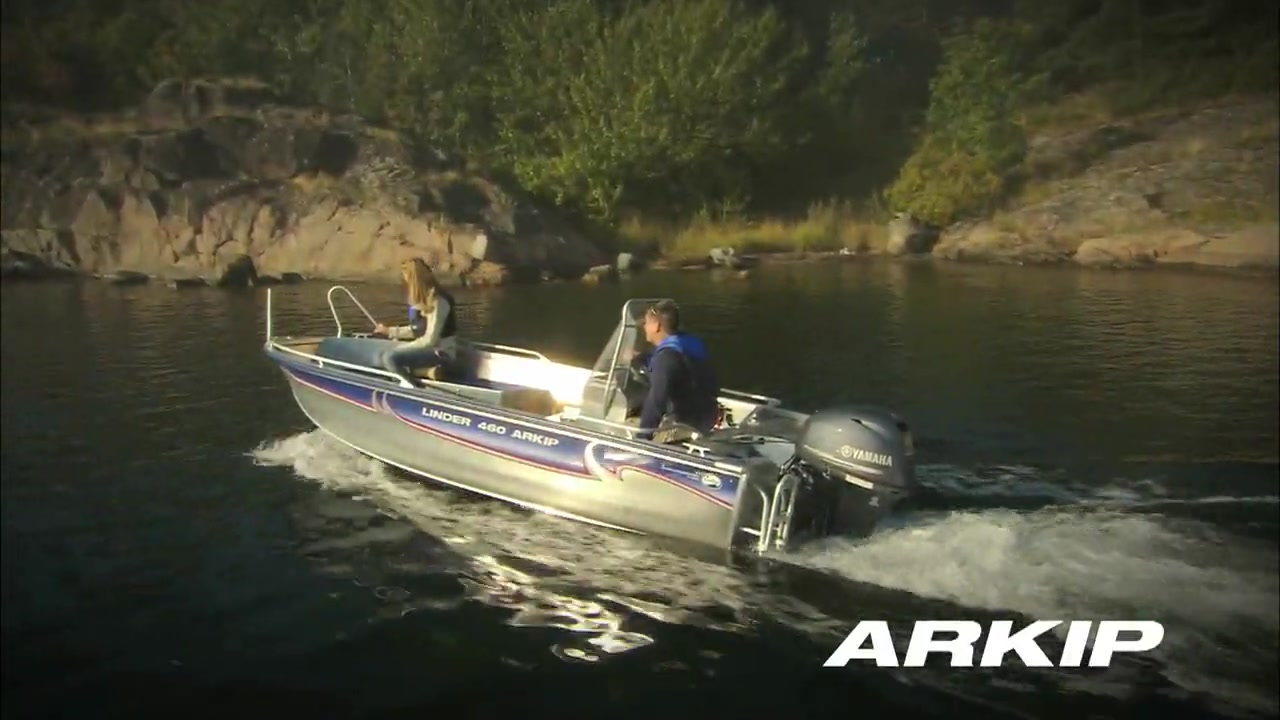boat: (261, 279, 925, 586)
